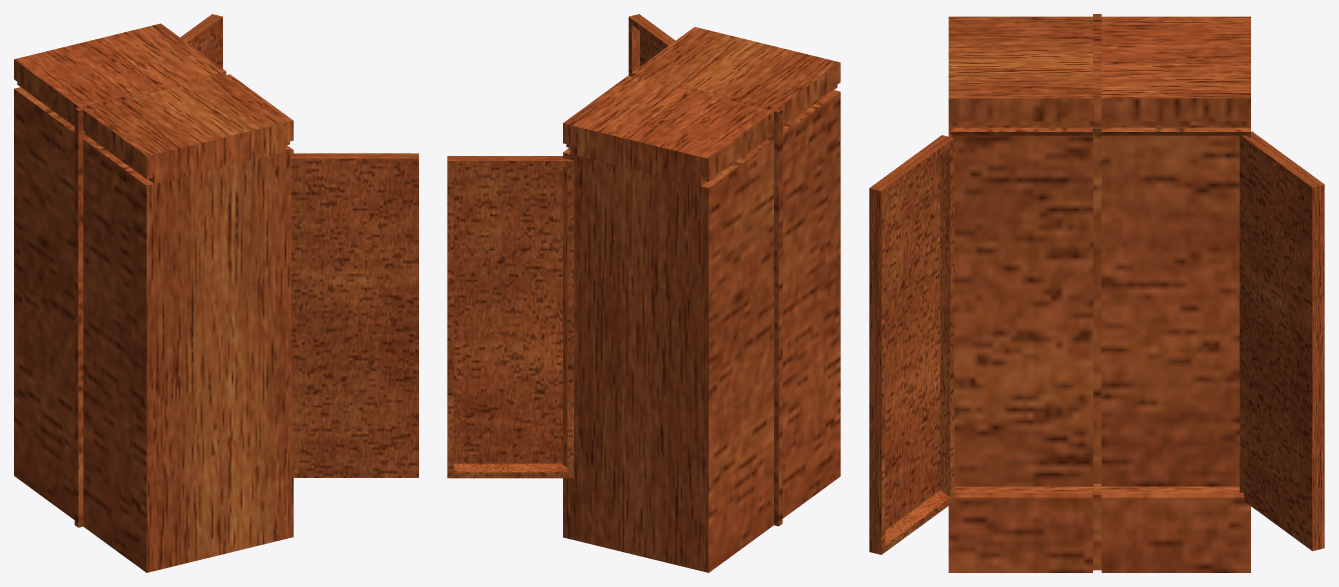
Rendered from cabinet.fbx.
3 renders of one model, left to right at view 1: azimuth 30°, elevation 25°; view 2: azimuth 150°, elevation 25°; view 3: azimuth 270°, elevation 25°, orthographic. The views are drawn at different scales.
Parts seen in each view (by area): view 1: pCube51, pCube53, pCube52; view 2: pCube51, pCube52, pCube53; view 3: pCube51, pCube53, pCube52.
Boxes of the visible parts, x1,y1,x2,y2 form: pCube51: (14, 23, 293, 572); pCube53: (291, 153, 418, 477); pCube52: (180, 14, 222, 68); pCube51: (563, 27, 840, 572); pCube52: (447, 156, 573, 478); pCube53: (628, 14, 675, 76); pCube51: (948, 14, 1250, 572); pCube53: (869, 135, 954, 554); pCube52: (1239, 131, 1324, 550).
Bounding box in the file's own units: 43.31 × 69.59 × 60.53.
Materials: 1 (1 with a texture image).
